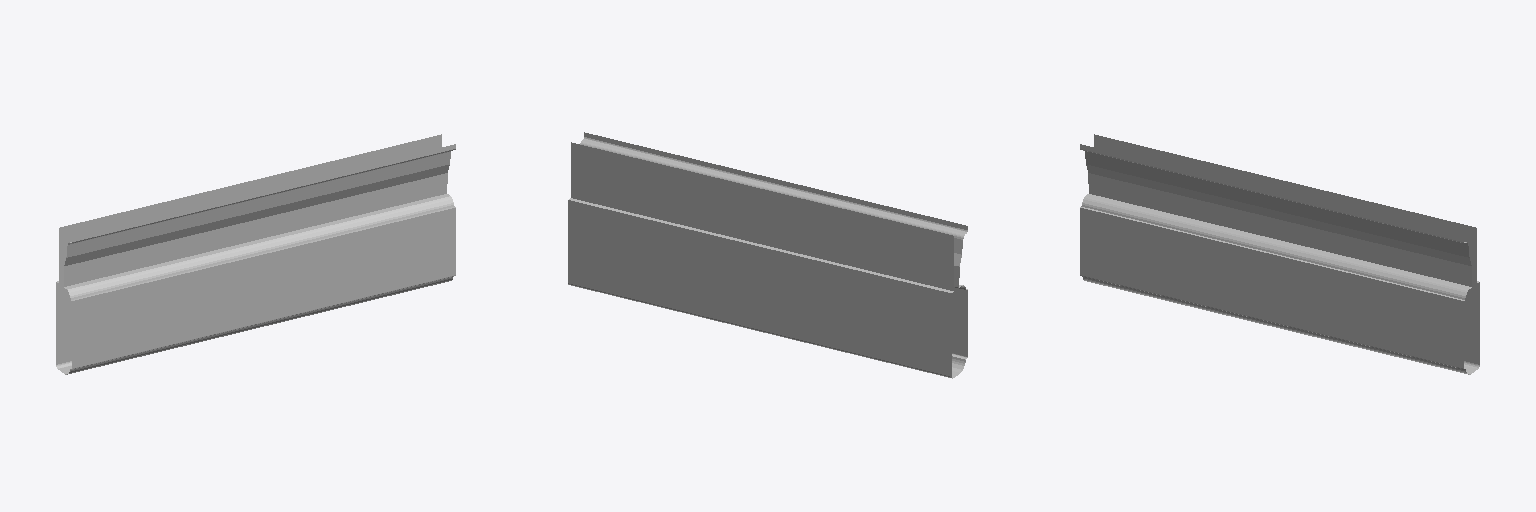
Rendered from original-92.obj.
3 renders of one model, left to right at view 1: azimuth 30°, elevation 25°; view 2: azimuth 150°, elevation 25°; view 3: azimuth 330°, elevation 25°, orthographic.
Parts seen in each view (by area): view 1: LT_11_BC1/LT_11_BC/mesh44/mesh44-geometry#mesh44-geometry; view 2: LT_11_BC1/LT_11_BC/mesh44/mesh44-geometry#mesh44-geometry; view 3: LT_11_BC1/LT_11_BC/mesh44/mesh44-geometry#mesh44-geometry.
Boxes of the visible parts, x1,y1,x2,y2 form: LT_11_BC1/LT_11_BC/mesh44/mesh44-geometry#mesh44-geometry: [56, 134, 455, 374]; LT_11_BC1/LT_11_BC/mesh44/mesh44-geometry#mesh44-geometry: [568, 132, 967, 378]; LT_11_BC1/LT_11_BC/mesh44/mesh44-geometry#mesh44-geometry: [1080, 134, 1479, 374].
Bounding box in the file's own units: 0.3685 × 0.1303 × 0.027.